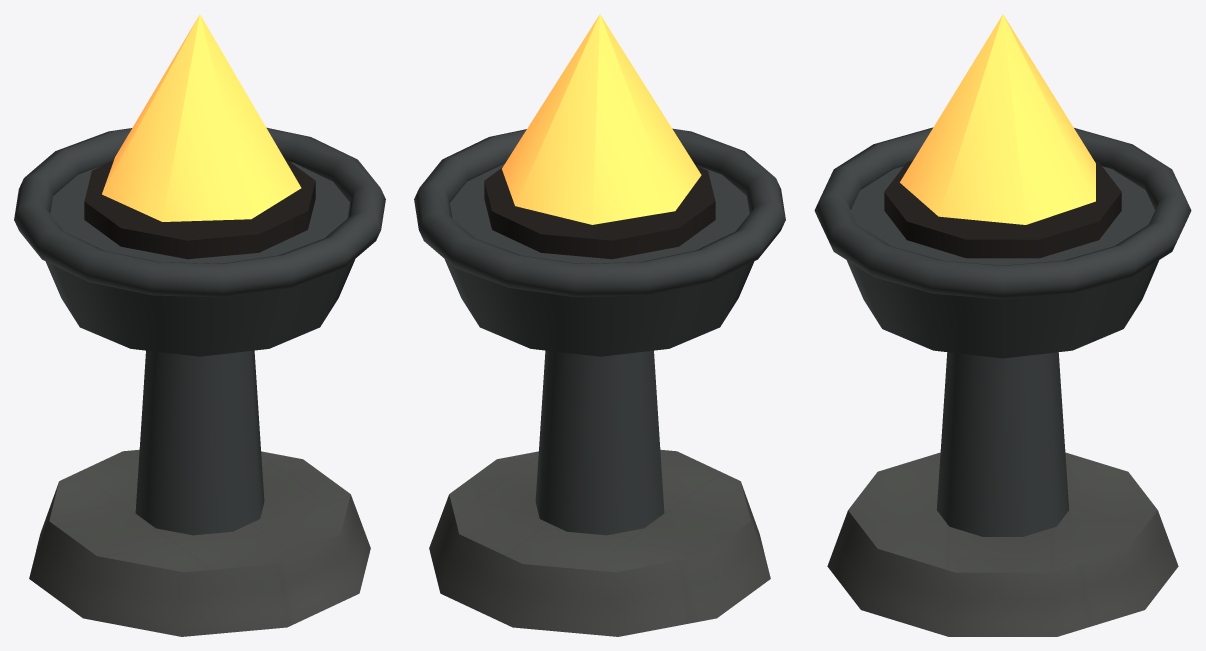
The model's file is sk-brazier.glb.
3 views of the same model, side by side, from view 1: azimuth 30°, elevation 25°; view 2: azimuth 150°, elevation 25°; view 3: azimuth 270°, elevation 25° (orthographic).
Parts seen in each view (by area): view 1: interior:brazier-static-brazier-iron, brazier-foot, brazier-flame, brazier-coal-bed; view 2: interior:brazier-static-brazier-iron, brazier-foot, brazier-flame, brazier-coal-bed; view 3: interior:brazier-static-brazier-iron, brazier-foot, brazier-flame, brazier-coal-bed.
Boxes of the visible parts, x1,y1,x2,y2 form: interior:brazier-static-brazier-iron: (14, 127, 385, 535); brazier-foot: (29, 449, 370, 636); brazier-flame: (102, 14, 301, 221); brazier-coal-bed: (84, 157, 315, 259); interior:brazier-static-brazier-iron: (414, 128, 785, 535); brazier-foot: (429, 449, 770, 636); brazier-flame: (502, 14, 701, 224); brazier-coal-bed: (484, 164, 715, 259); interior:brazier-static-brazier-iron: (814, 127, 1191, 536); brazier-foot: (827, 452, 1178, 636); brazier-flame: (900, 14, 1095, 224); brazier-coal-bed: (884, 160, 1121, 258).
Size of the model in its own units: 0.73 by 1.18 by 0.73.
Materials: 5 (1 with a texture image).
